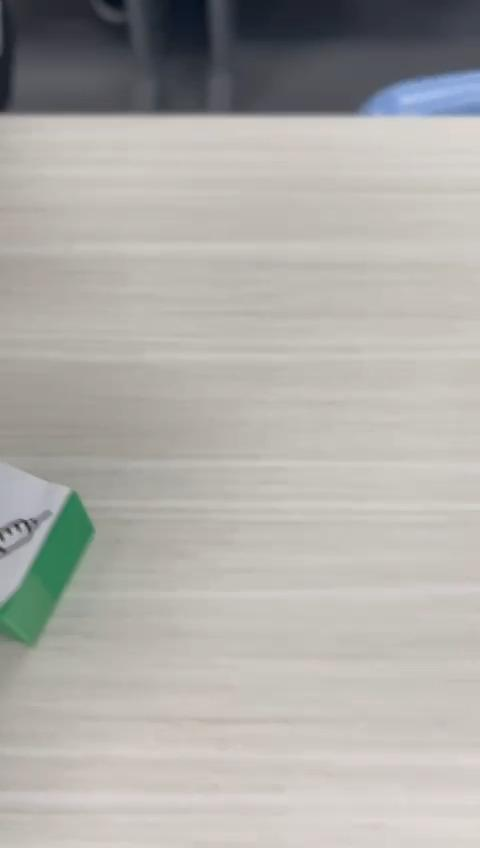antiseptic cream: (0, 459, 96, 648)
